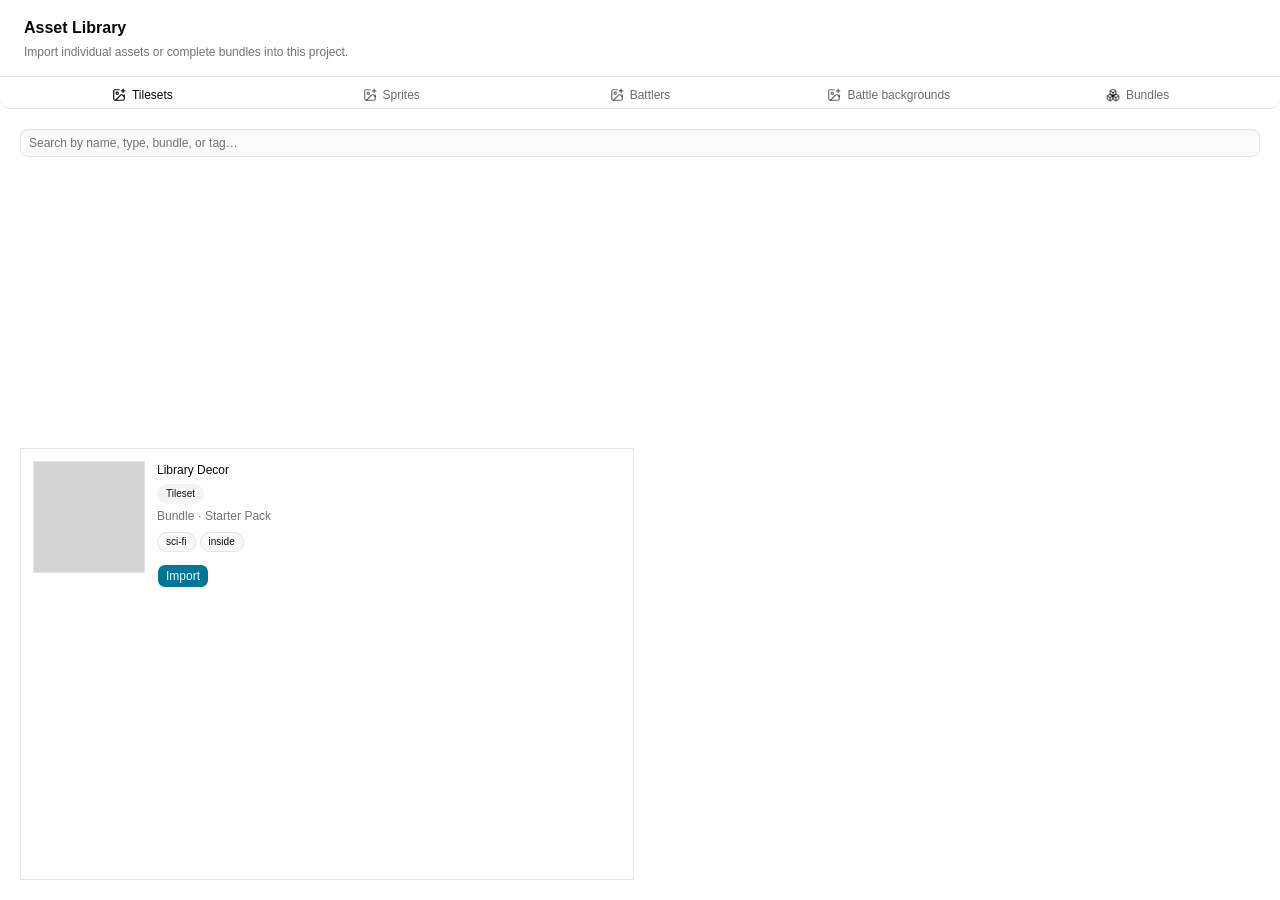
Test case: Asset library and project tileset editor › searches assets by tag, type, and parent bundle
Type "sci-fi" into the search field named "Search assets" at (640, 143), box x1=20 y1=129 x2=1260 y2=157
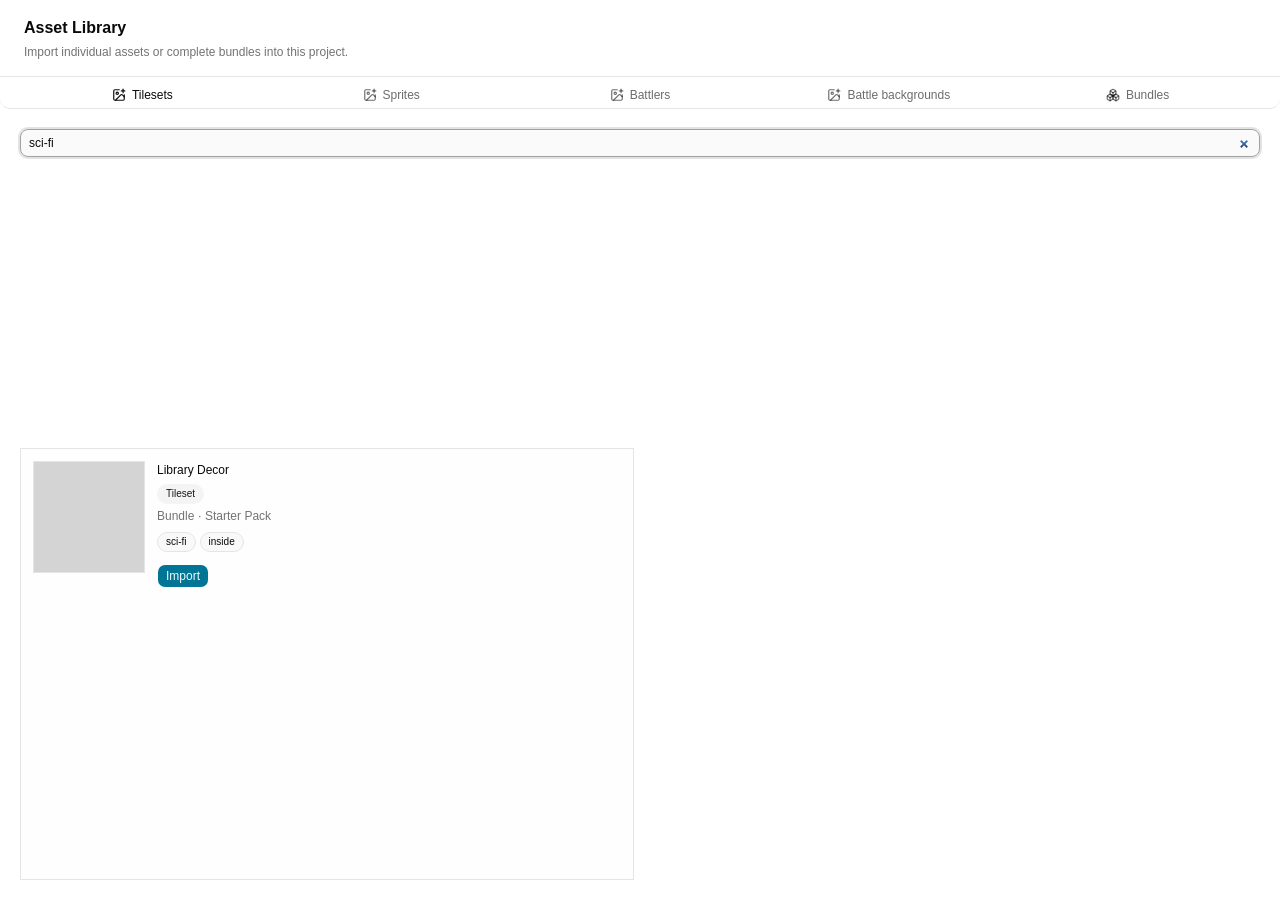
Expected: the text "Library Decor" is shown, x1=157 y1=463 x2=229 y2=477
Replace the text in the search field named "Search assets" with "missing-tag" at (640, 143), box x1=20 y1=129 x2=1260 y2=157
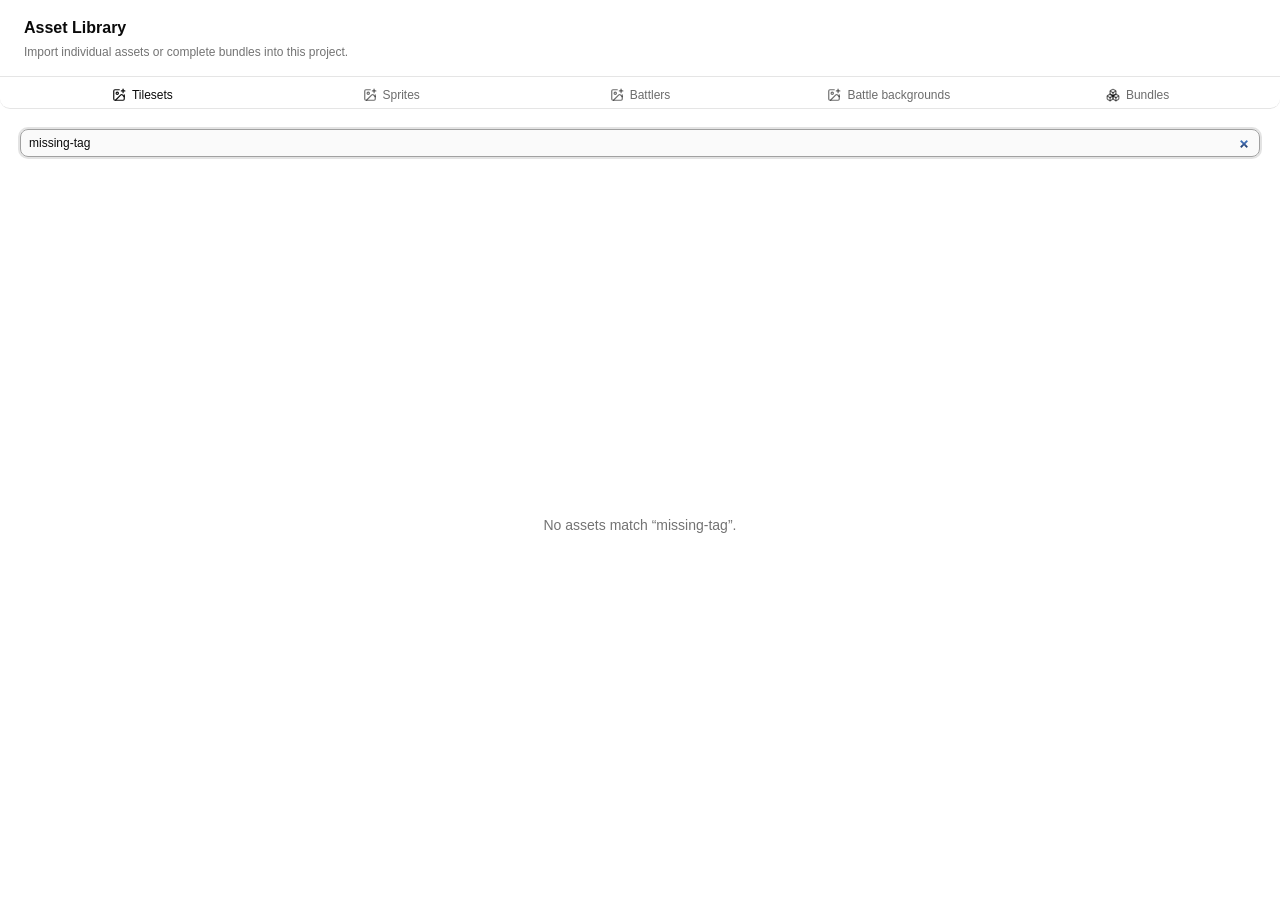
Result: the text "No assets match “missing-tag”." is shown at x1=544 y1=516 x2=736 y2=532
